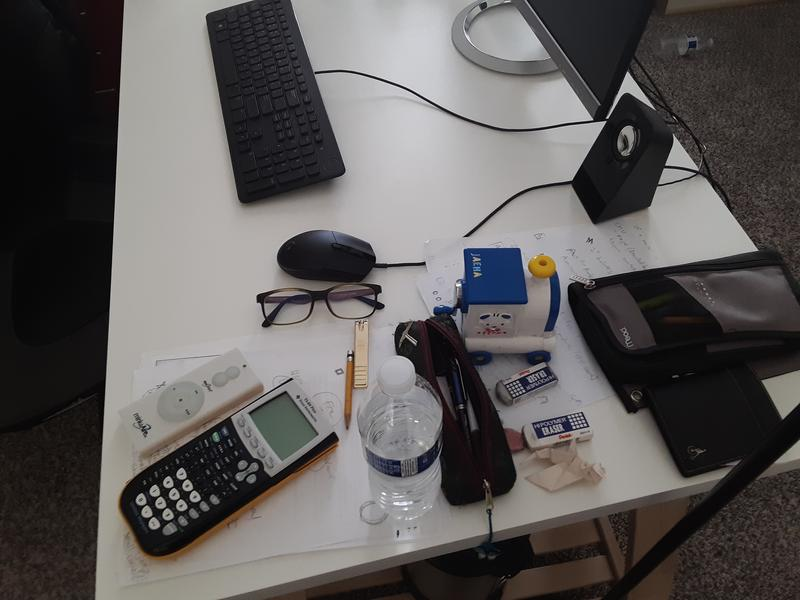glasses: (254, 282, 387, 329)
